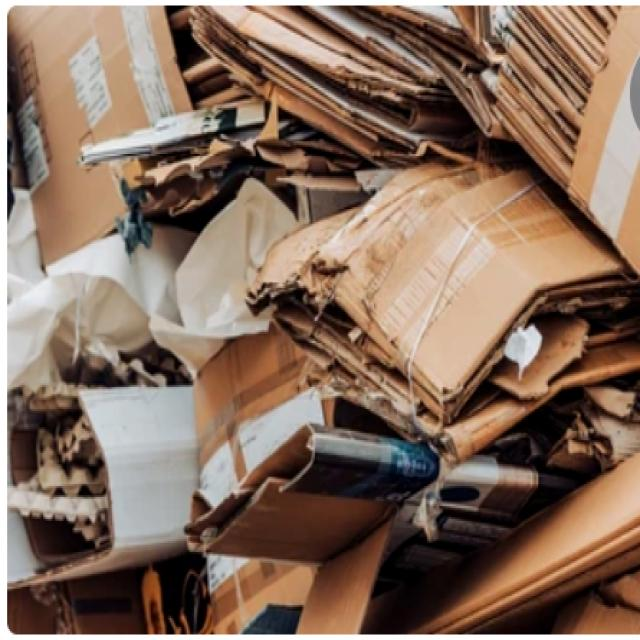Cardboard: (279, 169, 640, 409), (197, 10, 640, 176), (10, 11, 194, 248)
